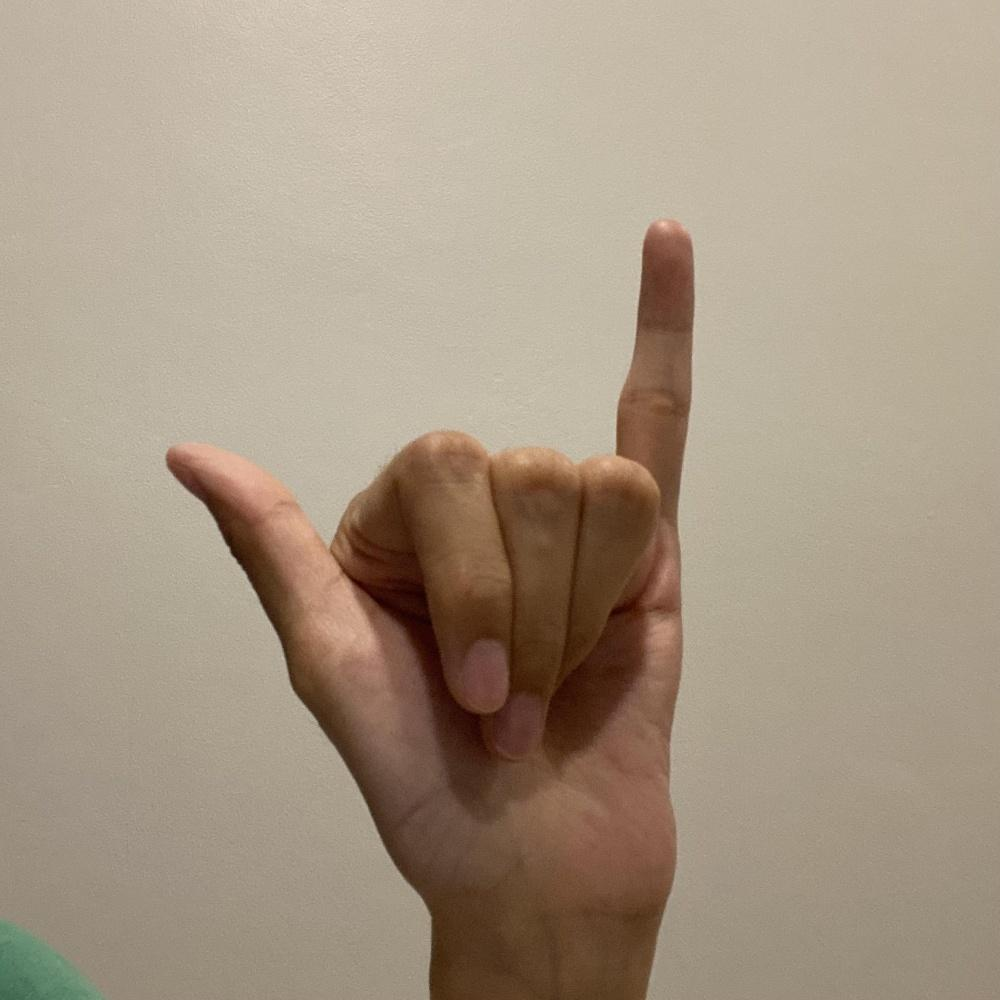y: (159, 212, 704, 927)
